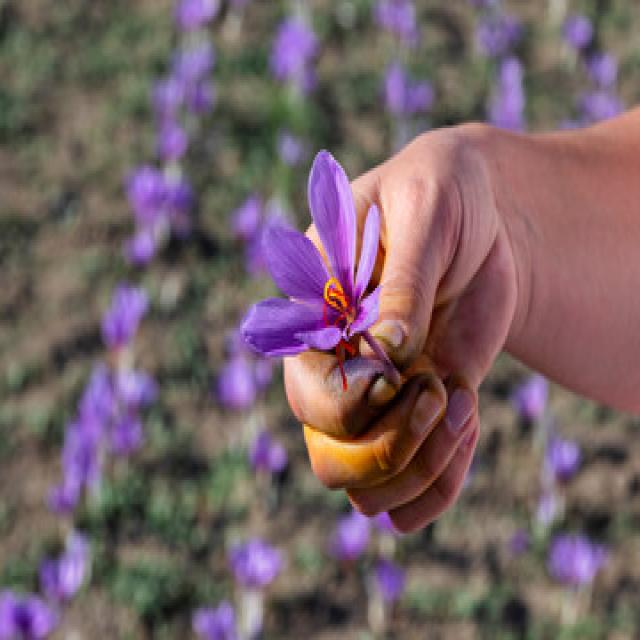saffron open: (241, 154, 398, 388)
